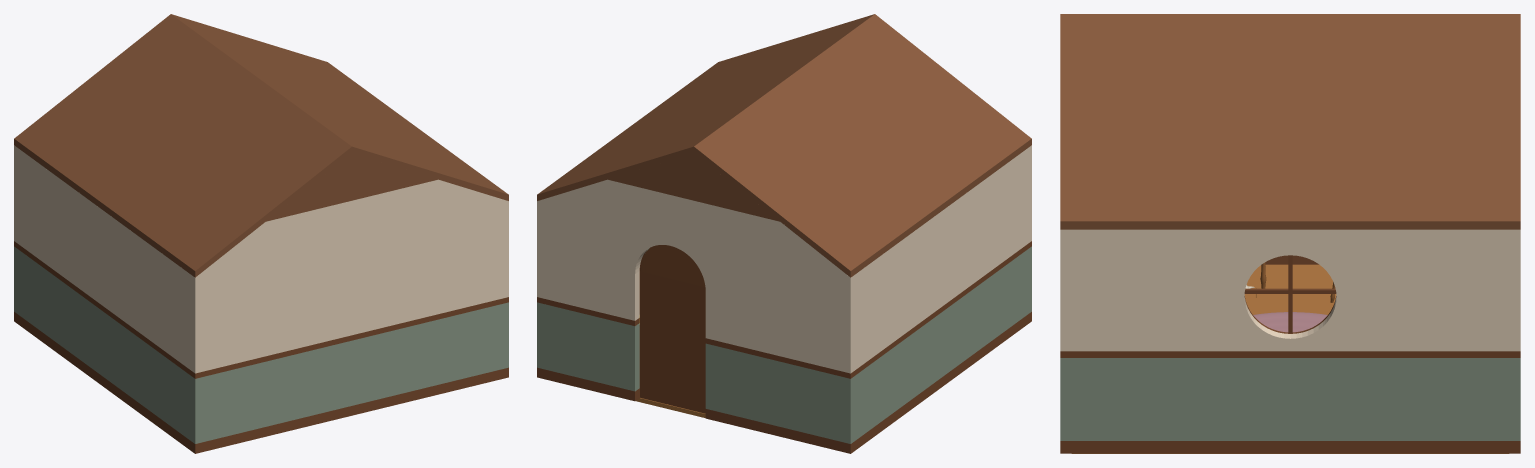
File: room_baked_d.glb
The picture shows the model from 3 angles, left to right: view 1: azimuth 30°, elevation 25°; view 2: azimuth 150°, elevation 25°; view 3: azimuth 270°, elevation 25°; orthographic projection. The views are drawn at different scales.
Visible parts, largest first — view 1: shell_walls, shell_ceiling; view 2: shell_walls, shell_ceiling, door; view 3: shell_ceiling, shell_walls, shell_floor, window_frame, rug.
Boxes of the visible parts, x1,y1,x2,y2 form: shell_walls: (14,145,508,453); shell_ceiling: (14,14,508,277); shell_walls: (537,145,1031,453); shell_ceiling: (537,14,1031,277); door: (640,245,705,413); shell_ceiling: (1060,14,1520,229); shell_walls: (1060,229,1520,453); shell_floor: (1072,264,1508,453); window_frame: (1244,255,1336,333); rug: (1253,312,1327,332).
Size of the model in its own units: 4 by 3.4 by 4.
